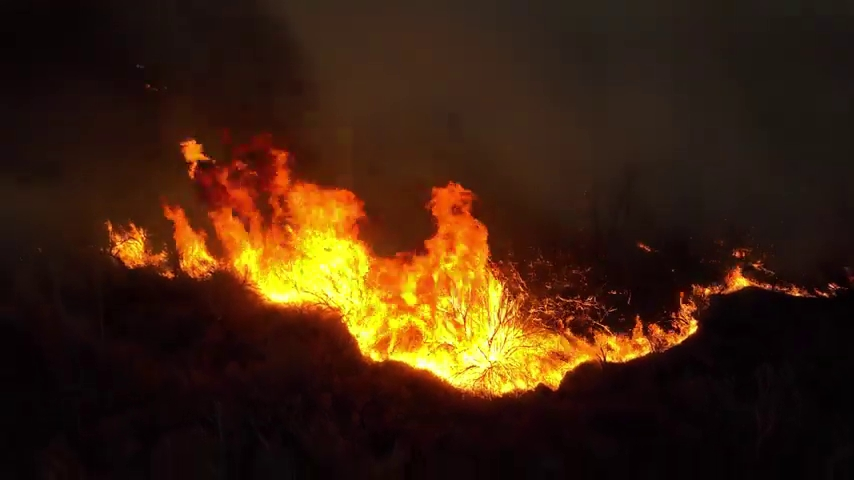forest_fire: (107, 139, 812, 393)
